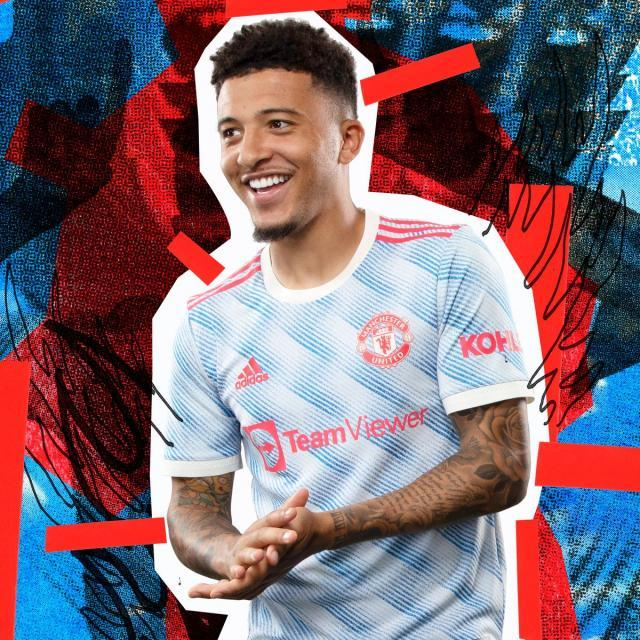Adidas: (234, 356, 273, 392)
Kohler: (458, 325, 534, 359)
TeamViewer: (249, 402, 430, 472)
